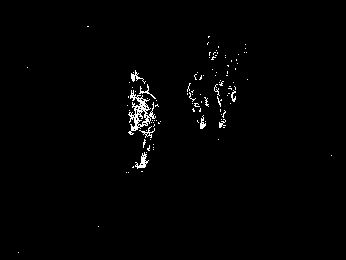person: (129, 82, 159, 170), (211, 76, 240, 133), (186, 73, 213, 129)
